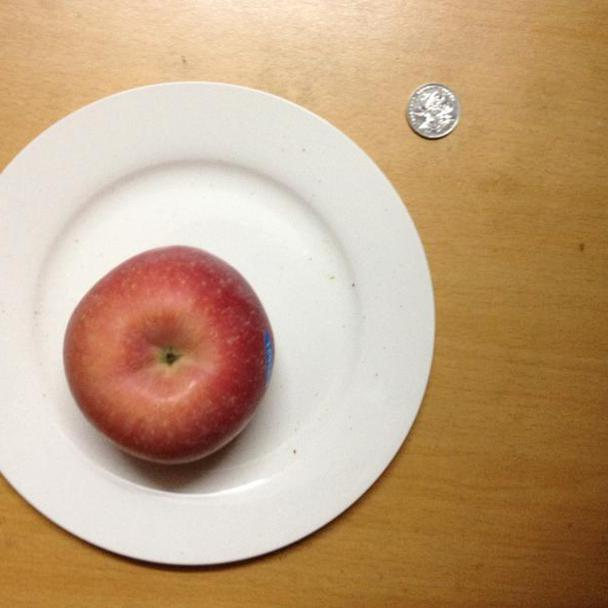apple: (63, 244, 275, 467)
